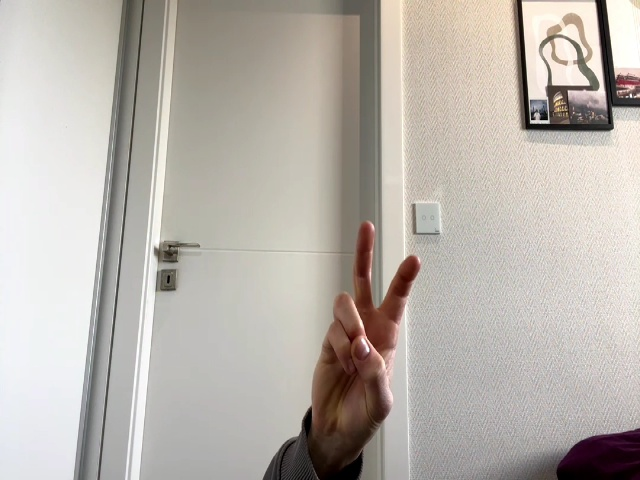H: (312, 221, 421, 443)
